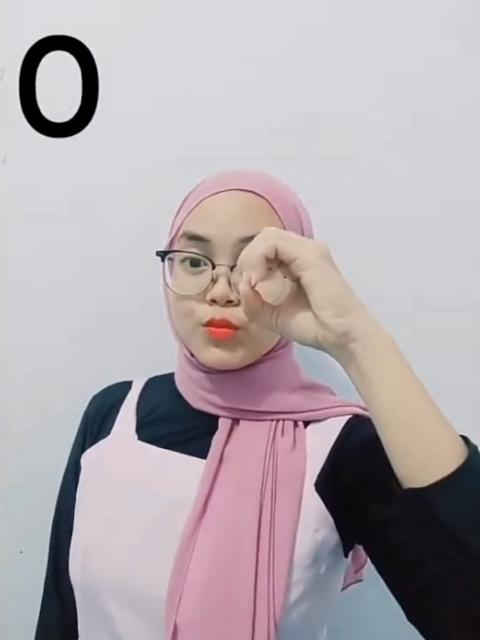O: (234, 218, 370, 364)
